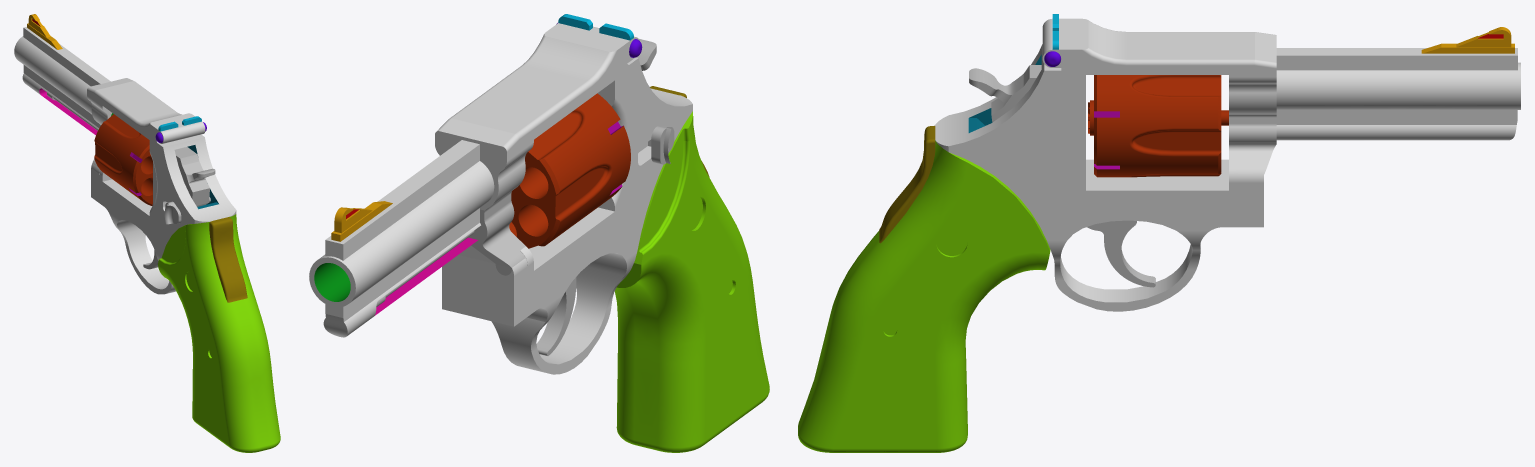
3 renders of one model, left to right at view 1: azimuth 30°, elevation 25°; view 2: azimuth 150°, elevation 25°; view 3: azimuth 270°, elevation 25°, orthographic. The views are drawn at different scales.
Parts seen in each view (by area): view 1: Body1, Body2, Body11, Body12; view 2: Body1, Body2, Body4, Body13, Body12; view 3: Body1, Body2, Body11, Body13.
Boxes of the visible parts, bbox=[...] form: Body1: bbox=[14, 14, 280, 452]; Body2: bbox=[94, 114, 152, 205]; Body11: bbox=[174, 147, 215, 206]; Body12: bbox=[164, 201, 181, 224]; Body1: bbox=[309, 14, 769, 452]; Body2: bbox=[509, 93, 630, 248]; Body4: bbox=[468, 191, 525, 275]; Body13: bbox=[536, 277, 576, 355]; Body12: bbox=[651, 125, 674, 164]; Body1: bbox=[798, 14, 1520, 452]; Body2: bbox=[1088, 75, 1228, 177]; Body11: bbox=[969, 65, 1041, 122]; Body13: bbox=[1087, 220, 1155, 287].
Size of the model in its own units: 3.88 by 14.8 by 23.66.
